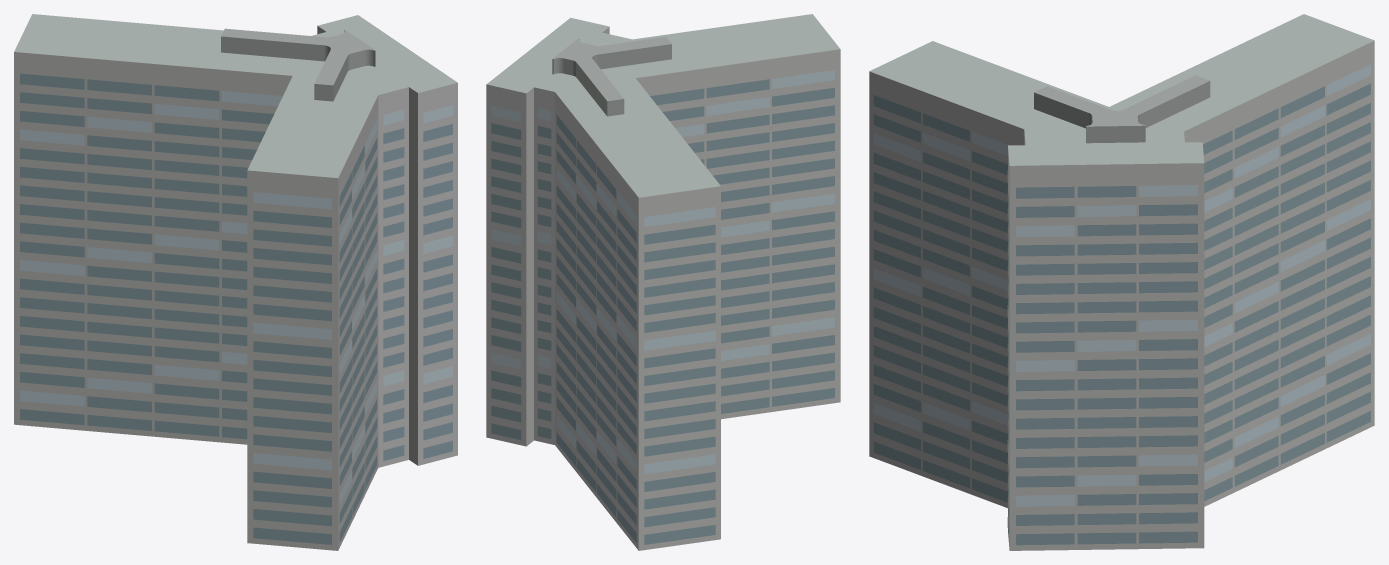
The model's file is fallback-raemian-oksu-riverzen-108.glb.
3 renders of one model, left to right at view 1: azimuth 30°, elevation 25°; view 2: azimuth 150°, elevation 25°; view 3: azimuth 270°, elevation 25°, orthographic. The views are drawn at different scales.
Parts seen in each view (by area): view 1: fallback-raemian-oksu-riverzen-108; view 2: fallback-raemian-oksu-riverzen-108; view 3: fallback-raemian-oksu-riverzen-108.
Boxes of the visible parts, x1=… form: fallback-raemian-oksu-riverzen-108: x1=14, y1=14, x2=457, y2=550; fallback-raemian-oksu-riverzen-108: x1=486, y1=14, x2=840, y2=550; fallback-raemian-oksu-riverzen-108: x1=869, y1=14, x2=1374, y2=550.
Bounding box in the file's own units: 47.06 × 58 × 66.17.
